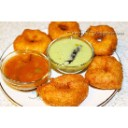vada: (42, 74, 89, 107), (87, 56, 120, 90), (14, 29, 52, 54), (83, 26, 117, 53), (46, 21, 79, 38)
